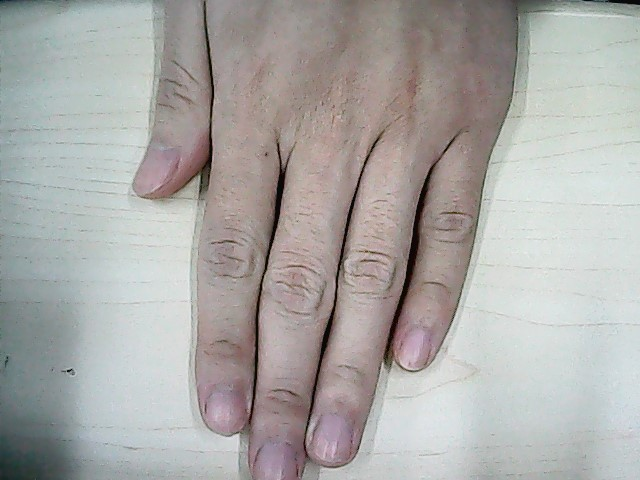nail: (131, 142, 181, 198), (202, 384, 249, 437), (308, 412, 354, 463), (251, 439, 300, 480), (397, 325, 432, 372)
